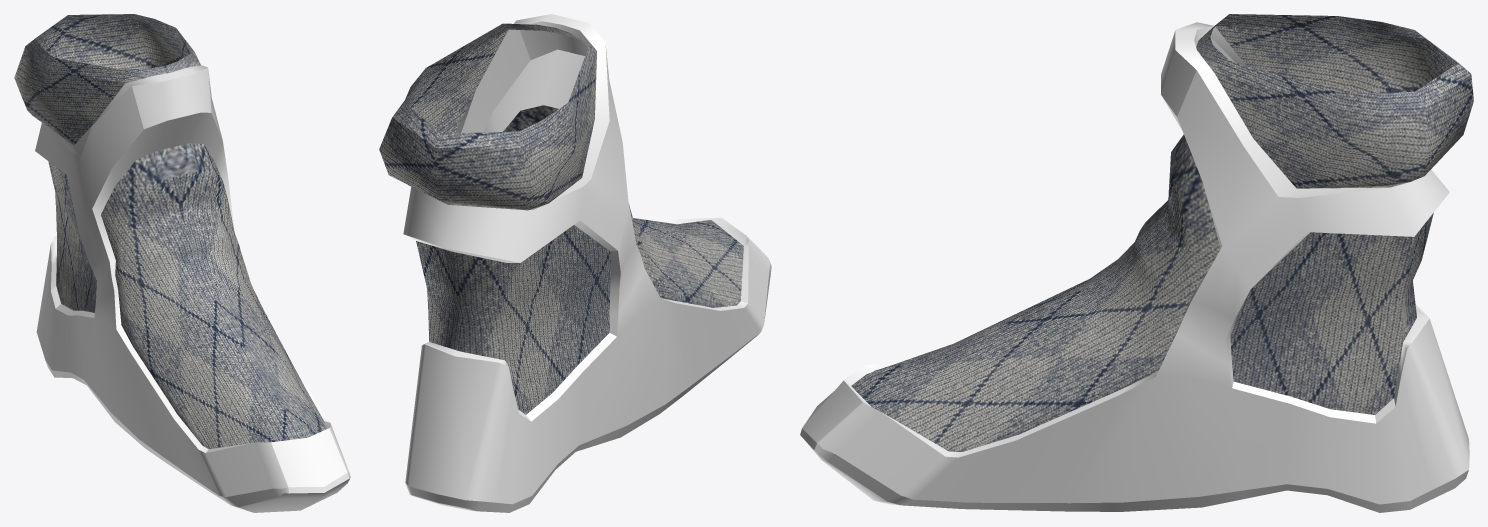
Rendered from wool_shoes.glb.
The picture shows the model from 3 angles, left to right: view 1: azimuth 30°, elevation 25°; view 2: azimuth 150°, elevation 25°; view 3: azimuth 270°, elevation 25°; orthographic projection. The views are drawn at different scales.
Visible parts, largest first — view 1: wool_shoes_export; view 2: wool_shoes_export; view 3: wool_shoes_export.
Part boxes in pixels (x1=…): wool_shoes_export: x1=14, y1=14, x2=350, y2=512; wool_shoes_export: x1=379, y1=14, x2=771, y2=512; wool_shoes_export: x1=800, y1=14, x2=1473, y2=512.
Size of the model in its own units: 0.0844 by 0.1993 by 0.2703.
Materials: 2 (1 with a texture image).
